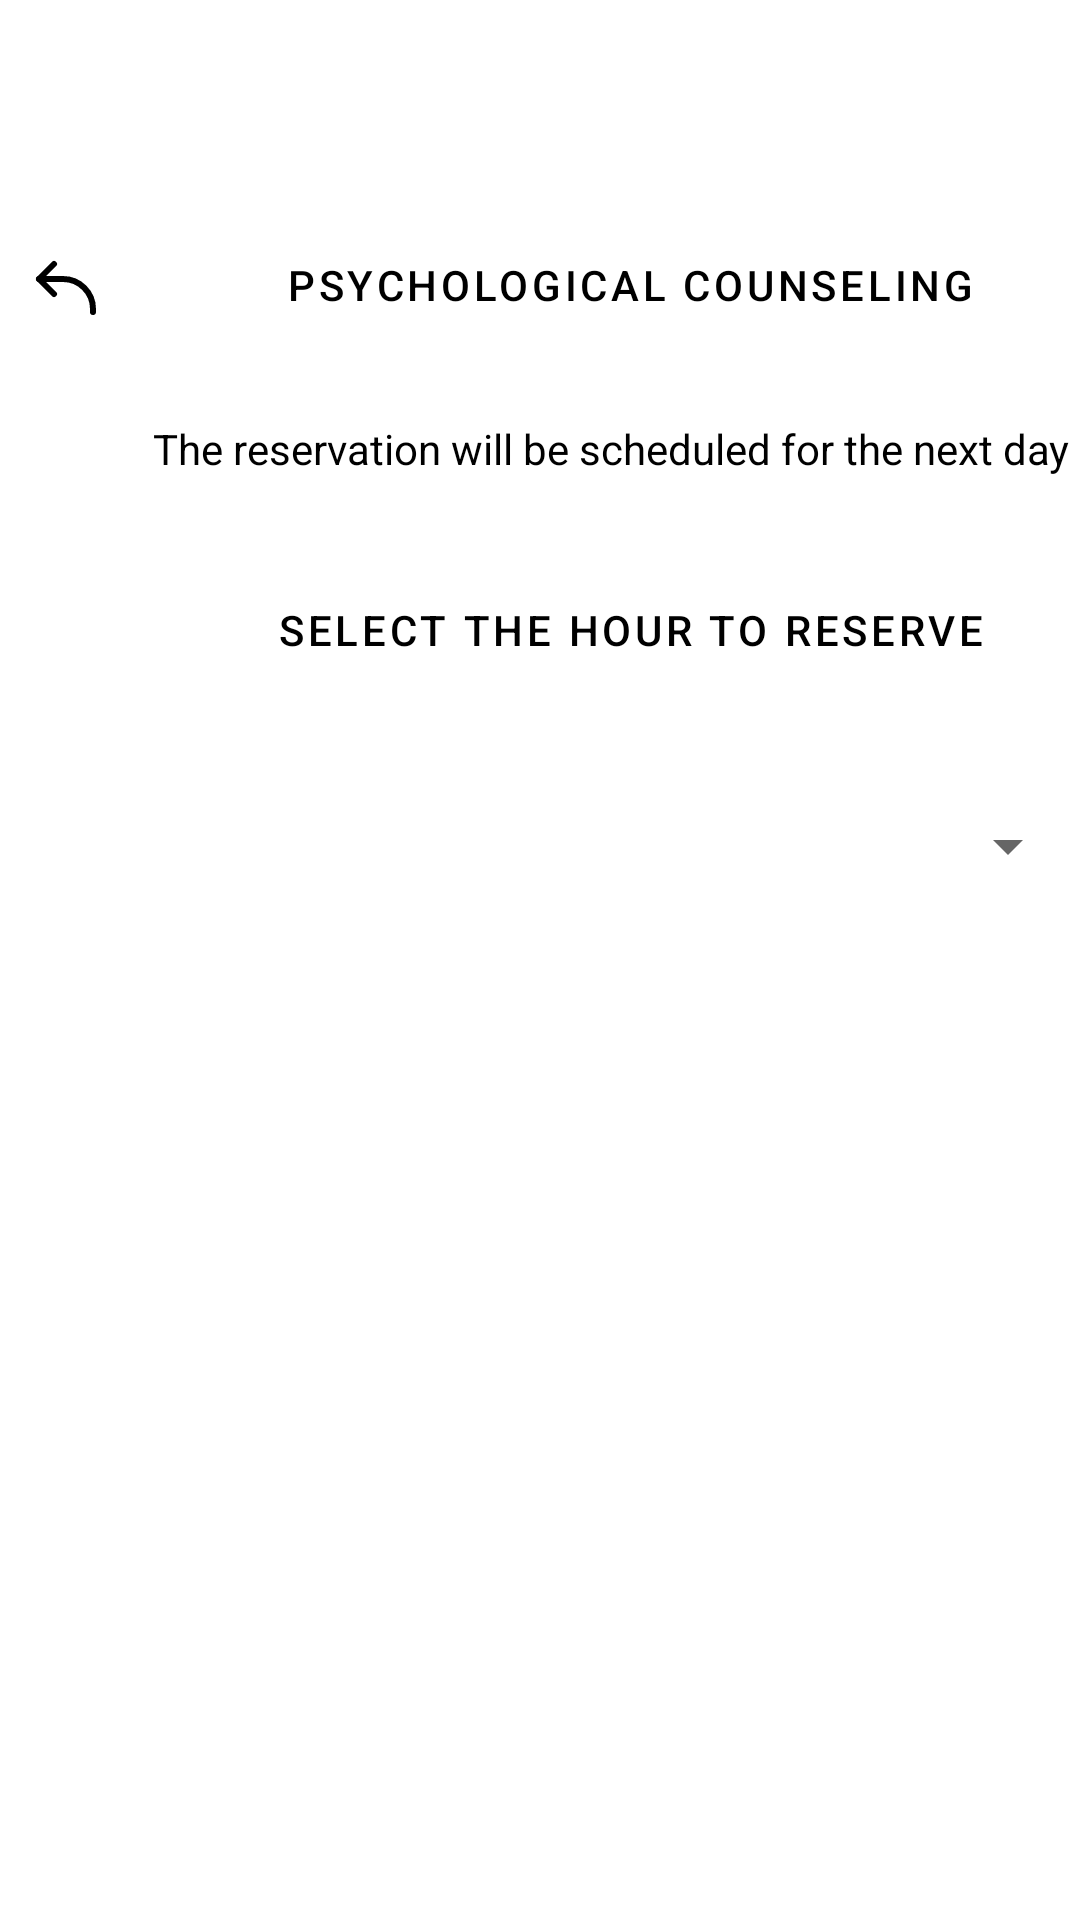

Named icons in this screenshot (1080x1920) and their centers, (x=x, y=y):
arrow back: (x=66, y=288)
